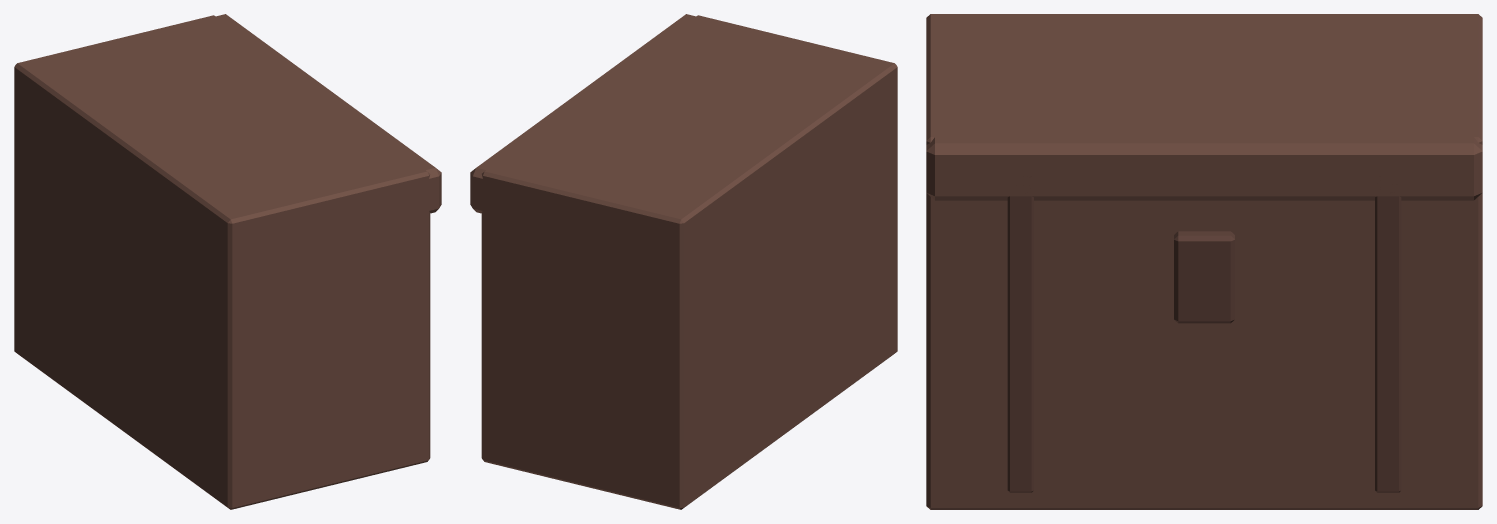
File: coffre_fer.glb
3 renders of one model, left to right at view 1: azimuth 30°, elevation 25°; view 2: azimuth 150°, elevation 25°; view 3: azimuth 270°, elevation 25°, orthographic. The views are drawn at different scales.
Parts seen in each view (by area): view 1: coffre_fer; view 2: coffre_fer; view 3: coffre_fer.
Boxes of the visible parts, bbox=[...] form: coffre_fer: bbox=[14, 14, 441, 509]; coffre_fer: bbox=[470, 14, 897, 509]; coffre_fer: bbox=[926, 14, 1482, 509].
Size of the model in its own units: 0.66 by 0.85 by 1.15.
1 material, 1 textured.
